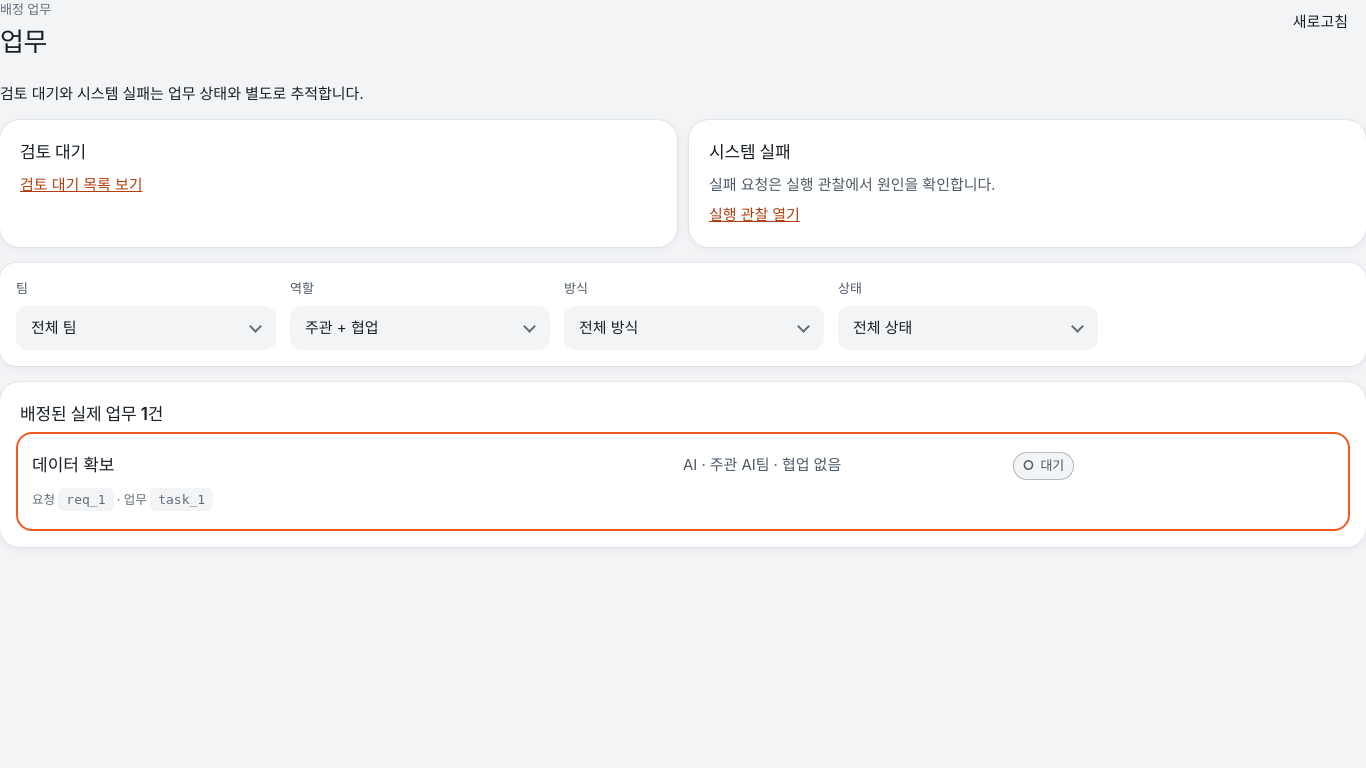
Tasks block reasons (P4-01) › closes task detail on Escape and restores focus to its opener
Step 1. Click the button "데이터 확보 AI · 주관 AI팀 · 협업 없음 ○ 대기 요청 req_1 · 업무 task_1" → x=73, y=465, box [20,436,1346,527]
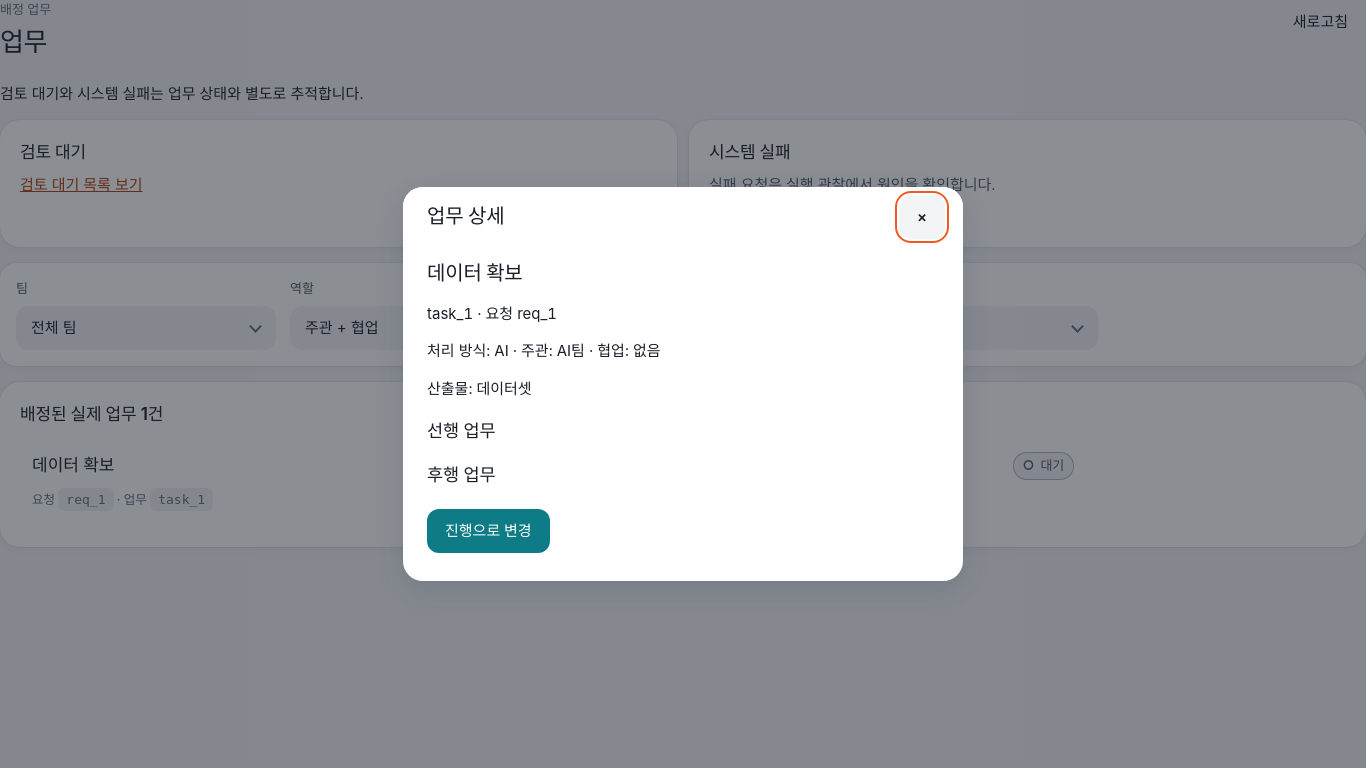
Check: the dialog "업무 상세" is shown, box [403,187,963,581]
Step 2. Press Escape
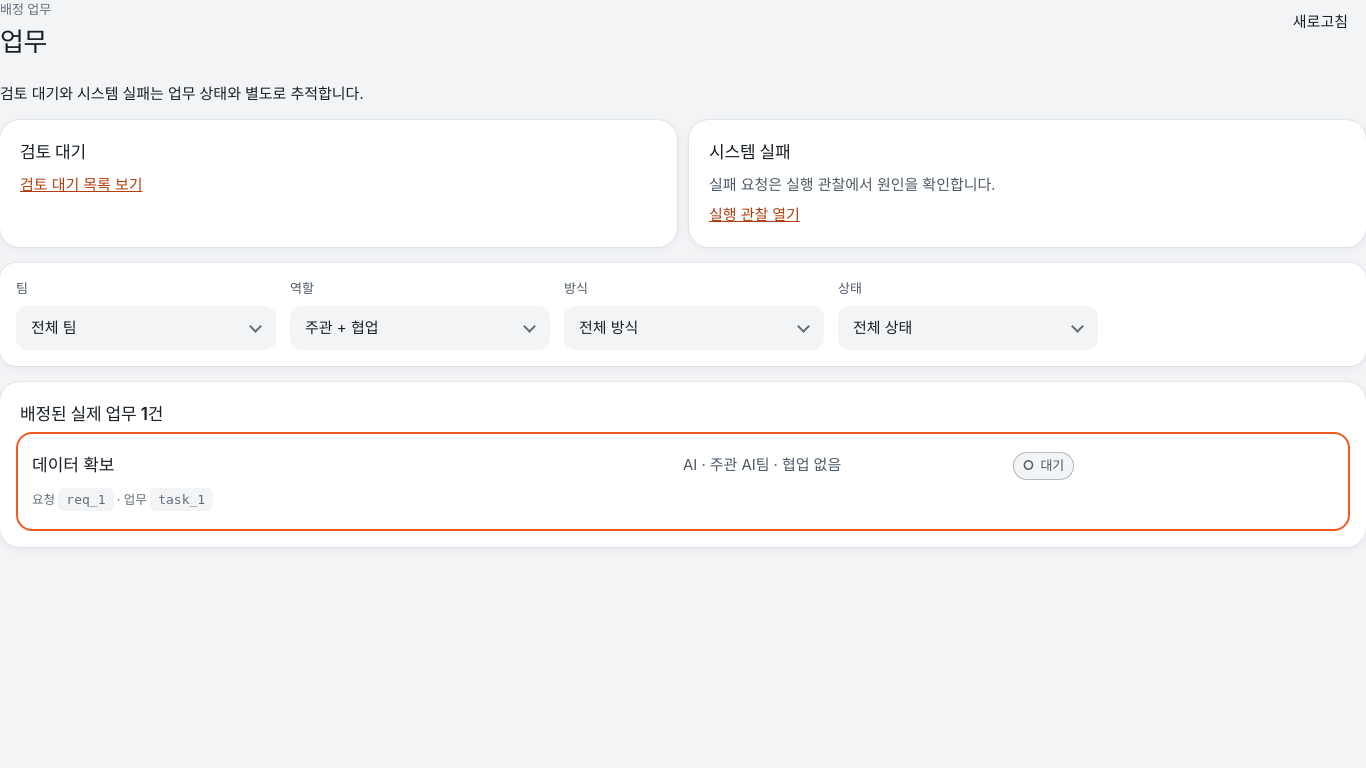
Check: the heading "업무 상세" is gone
